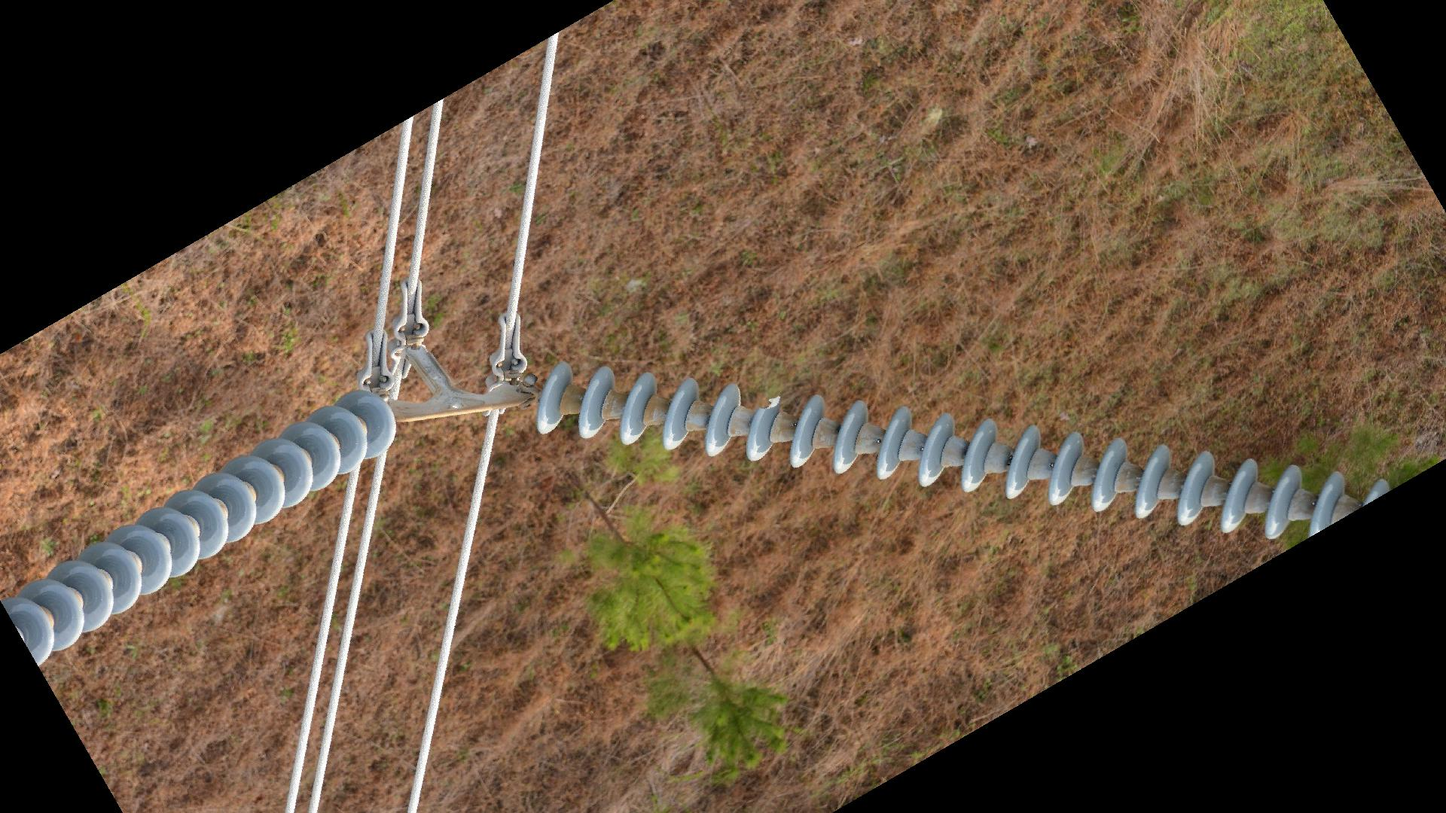insulator: (530, 358, 1393, 549), (1, 386, 402, 673)
insulator_breakage: (757, 394, 784, 414)
